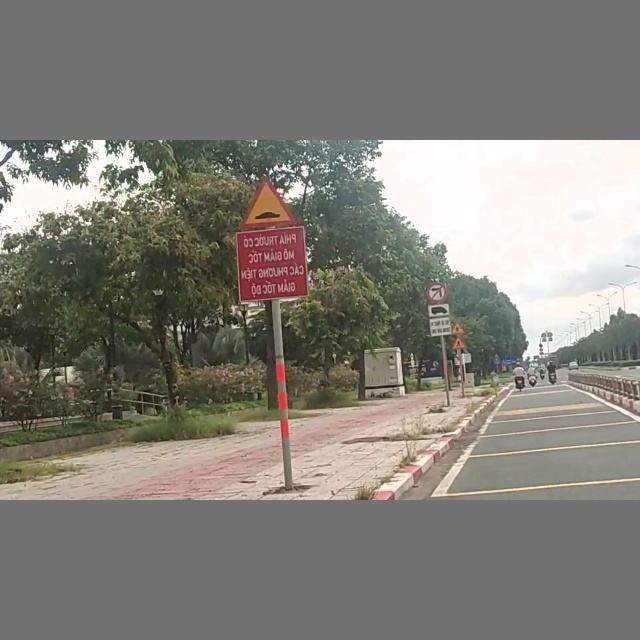P.123b: (426, 283, 447, 301)
S.505a*Xe tai: (429, 302, 451, 337)
W.207: (452, 323, 465, 335)
W.221b: (238, 174, 299, 229)
W.224: (452, 338, 467, 349)
